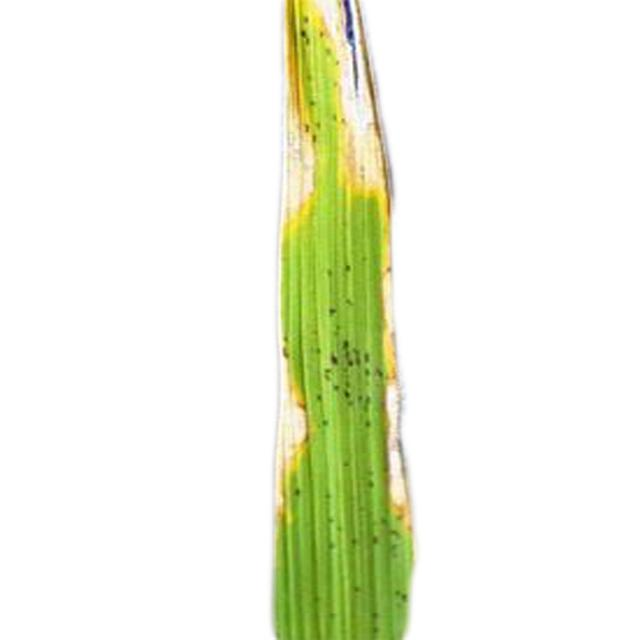Leaf scald: (240, 0, 490, 640)
